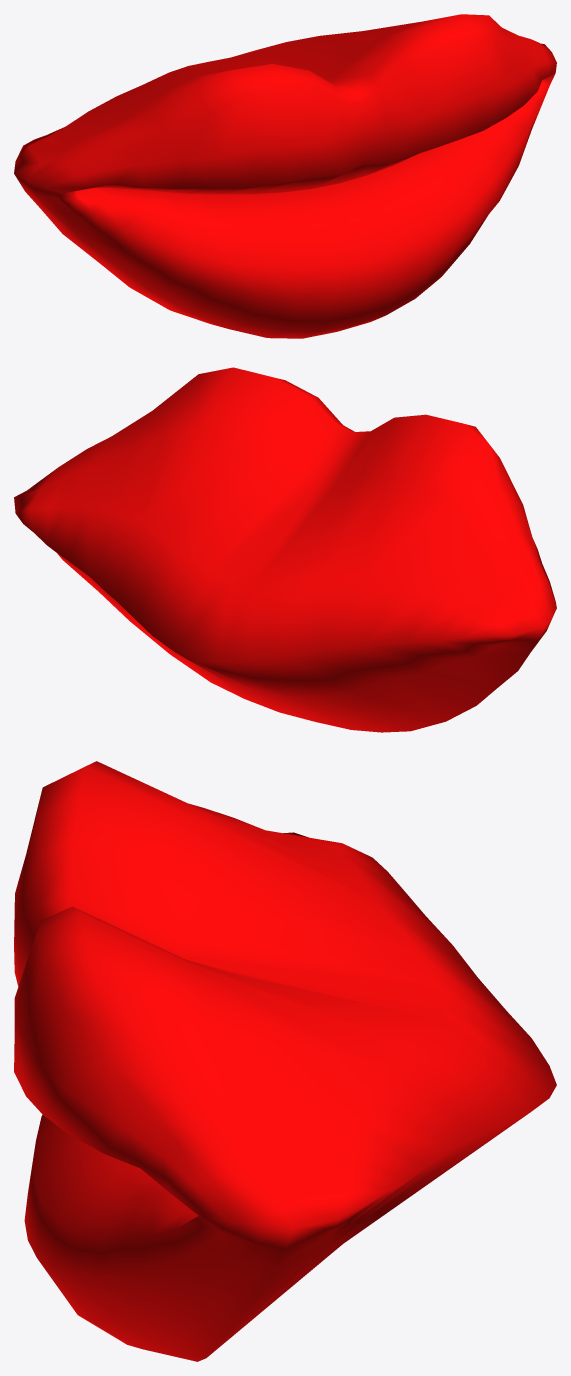
The model's file is Lips.FBX.
3 views of the same model, one above another, from view 1: azimuth 30°, elevation 25°; view 2: azimuth 150°, elevation 25°; view 3: azimuth 270°, elevation 25° (orthographic). The views are drawn at different scales.
Parts seen in each view (by area): view 1: Lips; view 2: Lips; view 3: Lips.
Boxes of the visible parts, x1=… form: Lips: x1=14, y1=14, x2=556, y2=338; Lips: x1=14, y1=367, x2=556, y2=732; Lips: x1=14, y1=761, x2=556, y2=1361.
Bounding box in the file's own units: 167 × 96.97 × 91.44.
